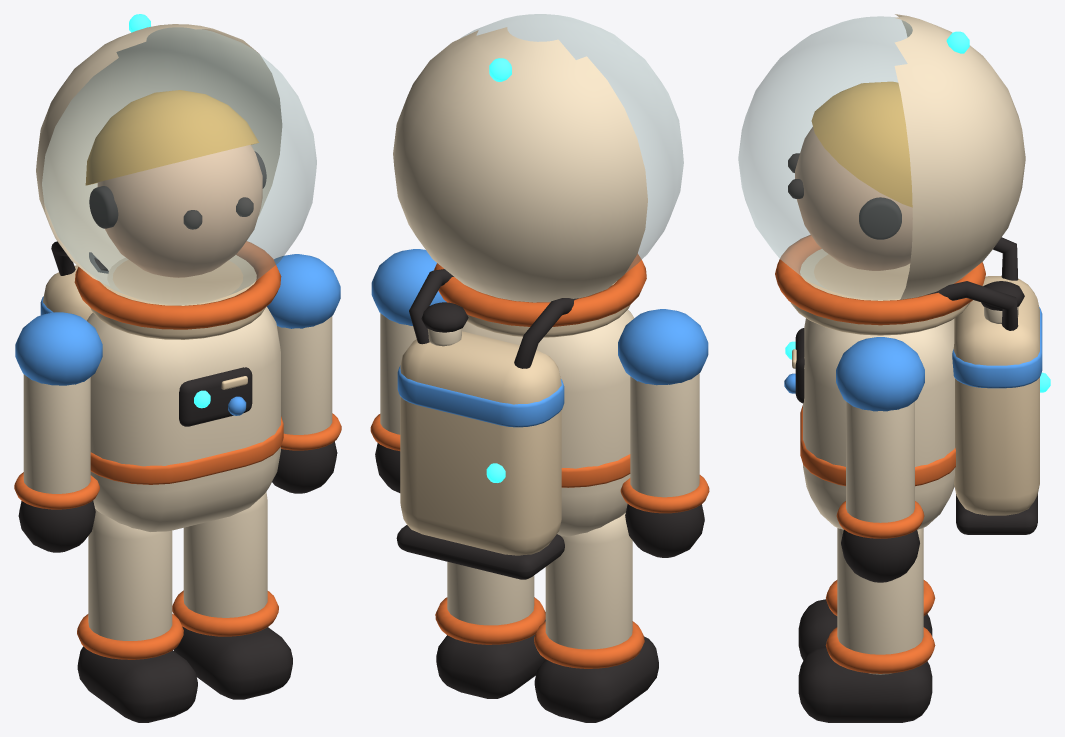
Rendered from astro-a.glb.
3 renders of one model, left to right at view 1: azimuth 30°, elevation 25°; view 2: azimuth 150°, elevation 25°; view 3: azimuth 270°, elevation 25°, orthographic. The views are drawn at different scales.
Parts seen in each view (by area): view 1: body, leg_r, arm_r, leg_l, arm_l; view 2: body, arm_r, leg_r, leg_l, arm_l; view 3: body, arm_l, leg_l, leg_r.
Boxes of the visible parts, x1,y1,x2,y2 form: body: (36, 14, 316, 531); leg_r: (77, 509, 197, 722); arm_r: (14, 312, 102, 552); leg_l: (172, 492, 292, 699); arm_l: (267, 254, 341, 493); body: (393, 14, 683, 579); arm_r: (618, 309, 709, 557); leg_r: (534, 513, 658, 722); leg_l: (435, 561, 545, 698); arm_l: (370, 249, 446, 492); body: (738, 14, 1050, 534); arm_l: (836, 337, 924, 582); leg_l: (798, 528, 935, 722); leg_r: (798, 528, 935, 660).
Size of the model in its own units: 0.864 by 1.69 by 0.7248.
